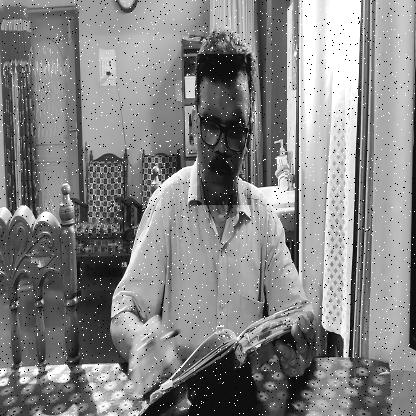Normal: (198, 54, 252, 205)
